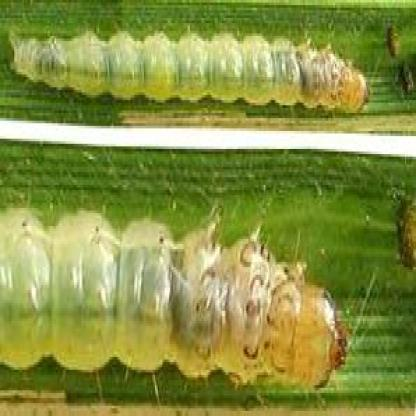leaf-folder: (27, 208, 352, 406), (9, 16, 382, 145)
